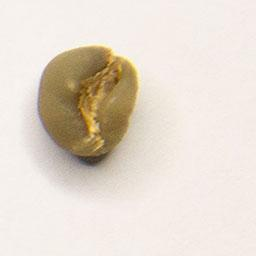peaberry: (33, 42, 141, 162)
